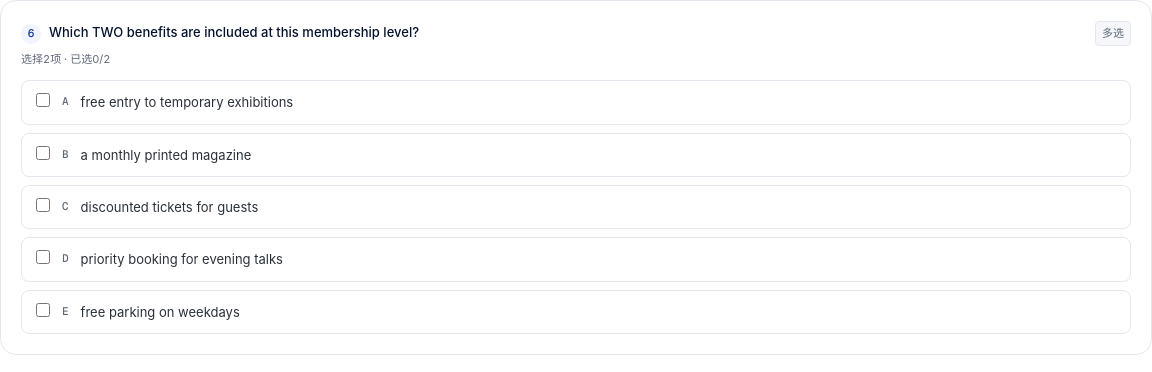
Scenario: McqMultiGroup › disables the remaining options once selectCount is reached
Expected: the text "选择2项 · 已选0/2" is shown, [21,52,110,66]
What coordinates should you click on to do the following:
click the checkbox labelled "free entry to temporary exhibitions"
I would click on:
 (43, 100)
Its box is [36,93,50,107].
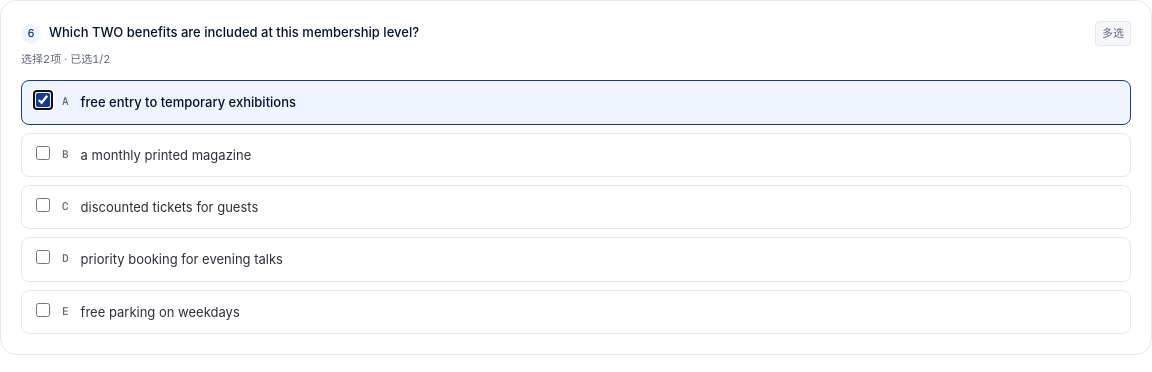
Result: the text "选择2项 · 已选1/2" is shown at [21,52,110,66]
What coordinates should you click on to do the following:
click the checkbox labelled "discounted tickets for guests"
I would click on:
 (43, 205)
Its box is [36,198,50,212].
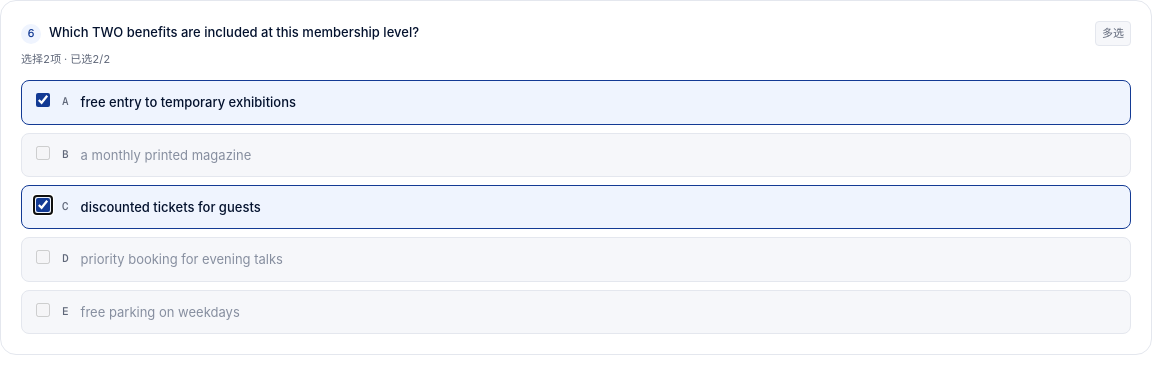
Result: the checkbox labelled "free entry to temporary exhibitions" is checked at [36,93,50,107]
Result: the checkbox labelled "discounted tickets for guests" is checked at [36,198,50,212]
Result: the text "选择2项 · 已选2/2" is shown at [21,52,110,66]
